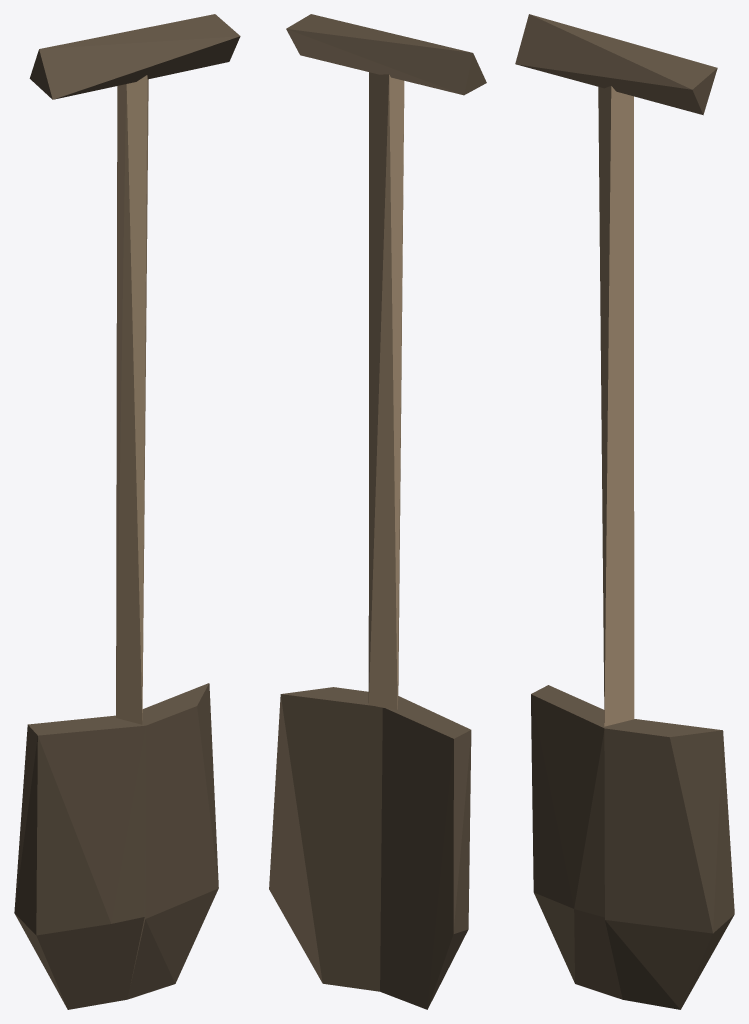
The model's file is WoodenShovel.glb.
3 renders of one model, left to right at view 1: azimuth 30°, elevation 25°; view 2: azimuth 150°, elevation 25°; view 3: azimuth 330°, elevation 25°, orthographic.
Visible parts, largest first — view 1: Pelle.001, Manche.001, Pommeau.001; view 2: Pelle.001, Manche.001, Pommeau.001; view 3: Pelle.001, Manche.001, Pommeau.001.
Boxes of the visible parts, left/top/right/bottom form: Pelle.001: left=14, top=683, right=218, bottom=1009; Manche.001: left=116, top=75, right=148, bottom=724; Pommeau.001: left=29, top=14, right=240, bottom=99; Pelle.001: left=269, top=687, right=471, bottom=1009; Manche.001: left=368, top=72, right=404, bottom=710; Pommeau.001: left=286, top=14, right=486, bottom=95; Pelle.001: left=531, top=685, right=734, bottom=1009; Manche.001: left=598, top=86, right=634, bottom=726; Pommeau.001: left=515, top=14, right=717, bottom=115.
Size of the model in its own units: 0.2047 by 1.02 by 0.0767.
